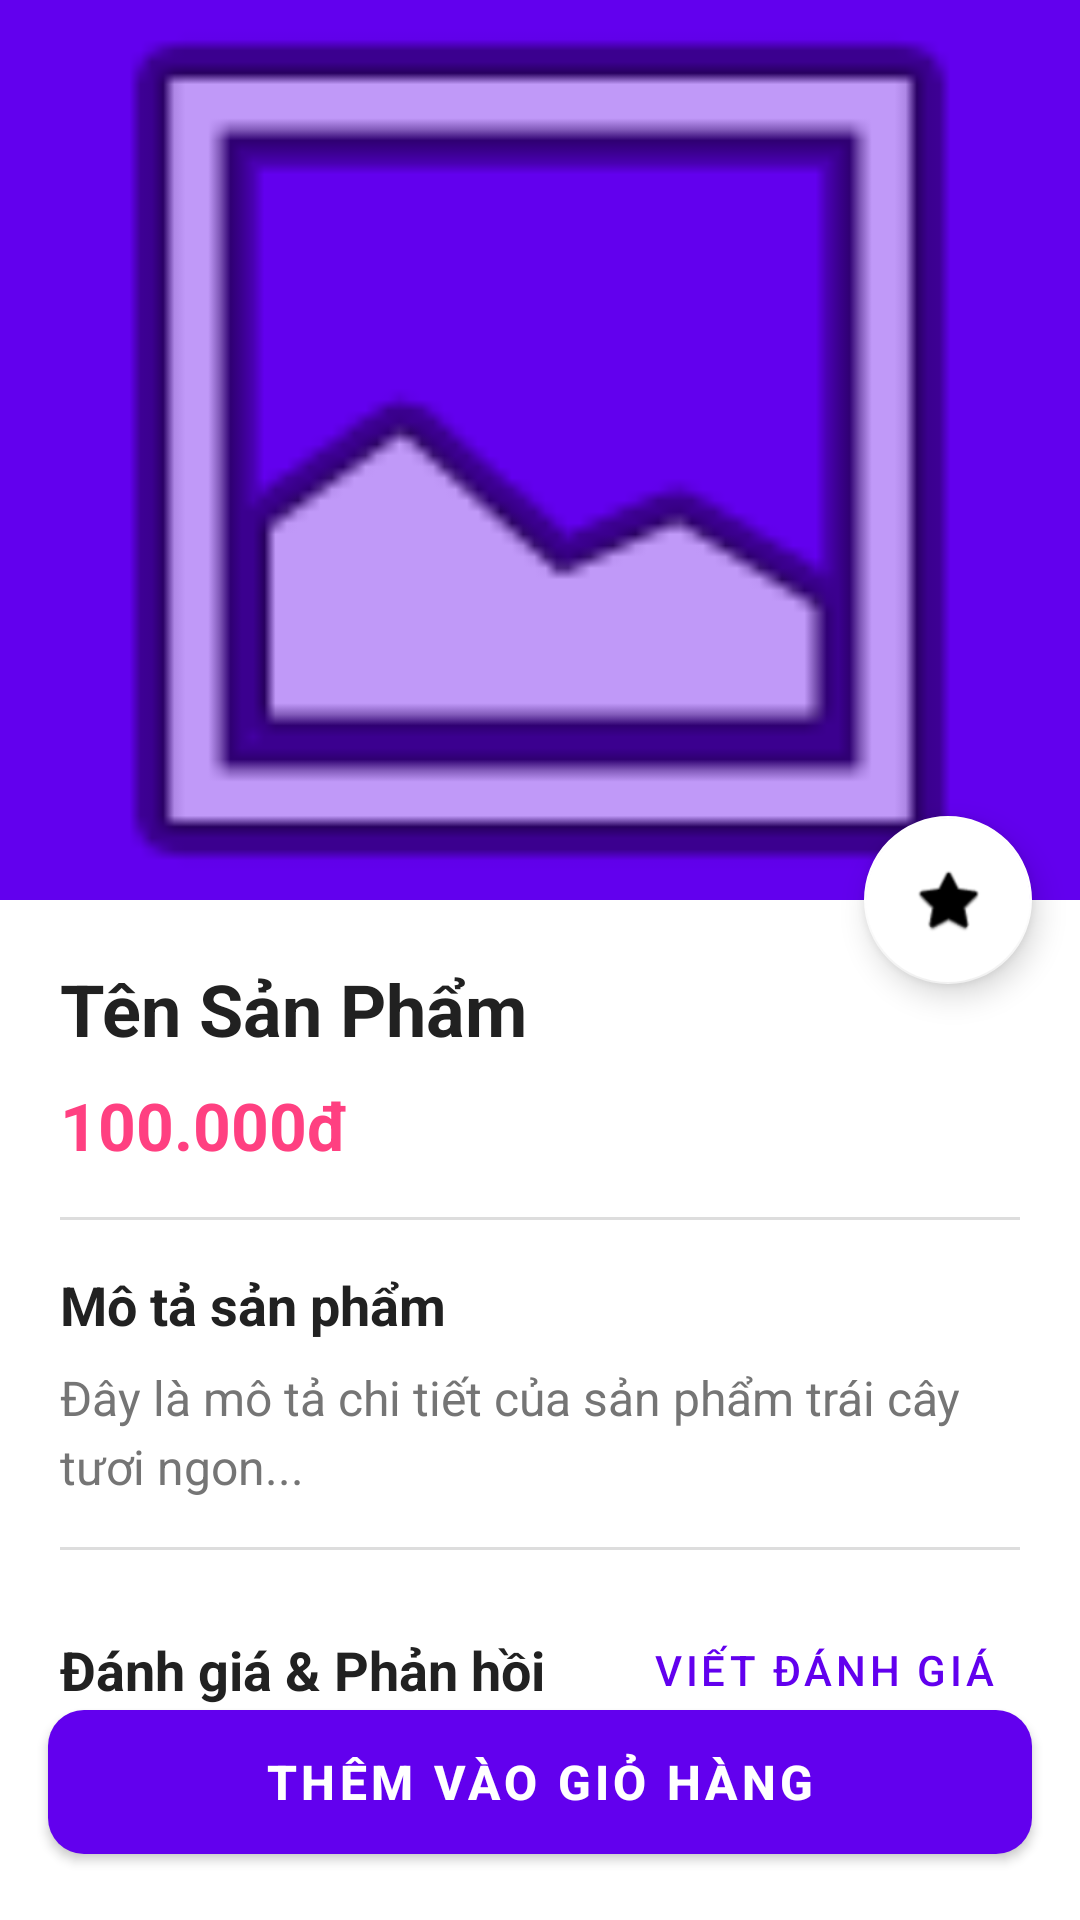

Icon click points for this 1080 x 1920 phone screenshot, format [x,y]:
star off: [948,900]
